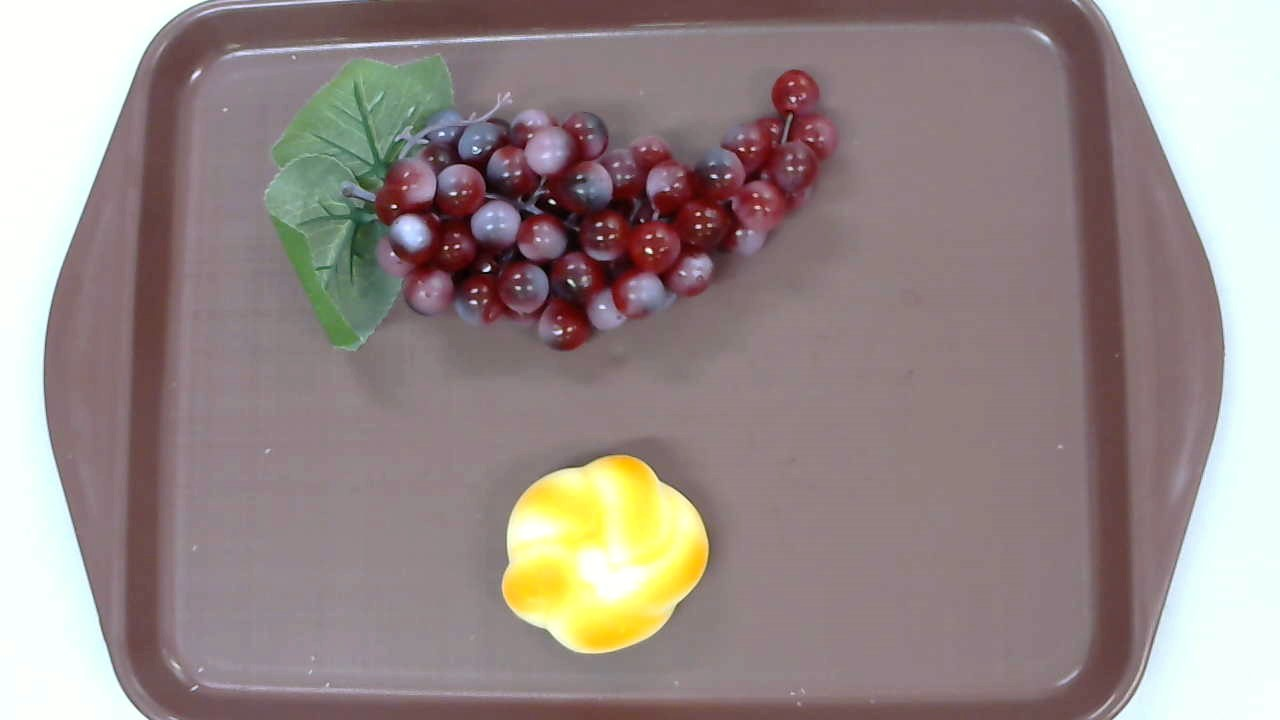grape: (262, 53, 841, 352)
twist bread: (501, 452, 709, 653)
